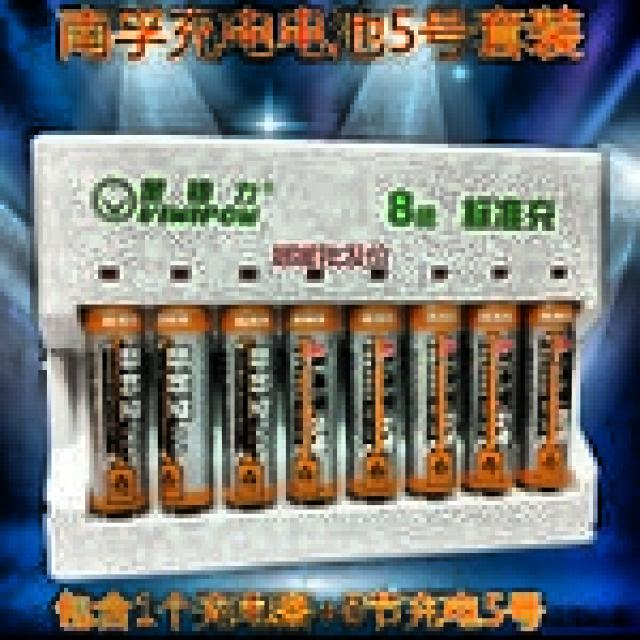Non-Valuable Waste - Batteries: (83, 307, 147, 516), (155, 307, 213, 512), (221, 306, 276, 508), (285, 306, 341, 504), (519, 304, 576, 490), (349, 305, 403, 500), (464, 304, 519, 494), (407, 304, 461, 497)
